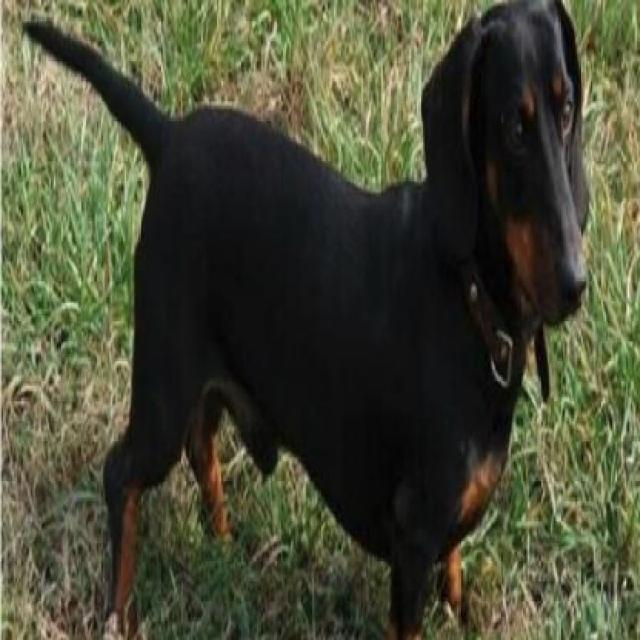Dog: (11, 3, 595, 639)
